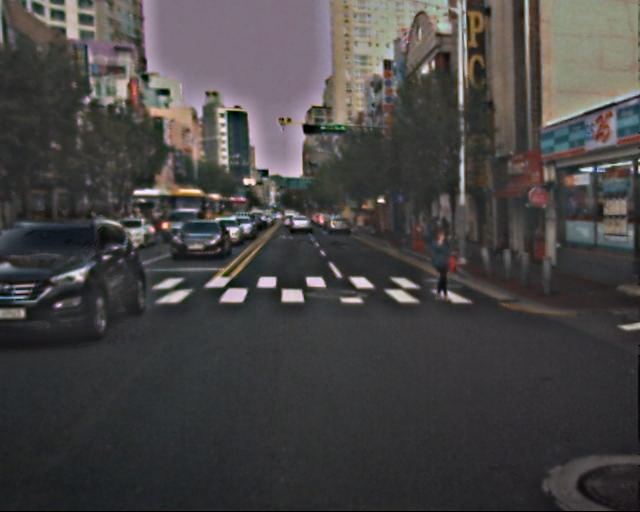person: (423, 226, 455, 305), (420, 217, 454, 246)
